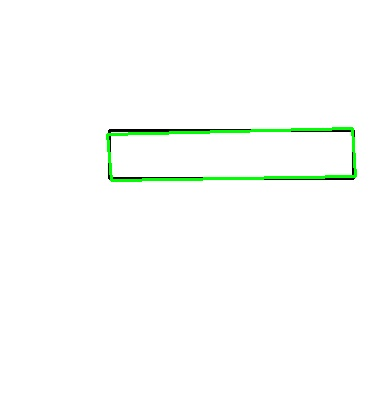line_segment: (107, 128, 356, 181)
